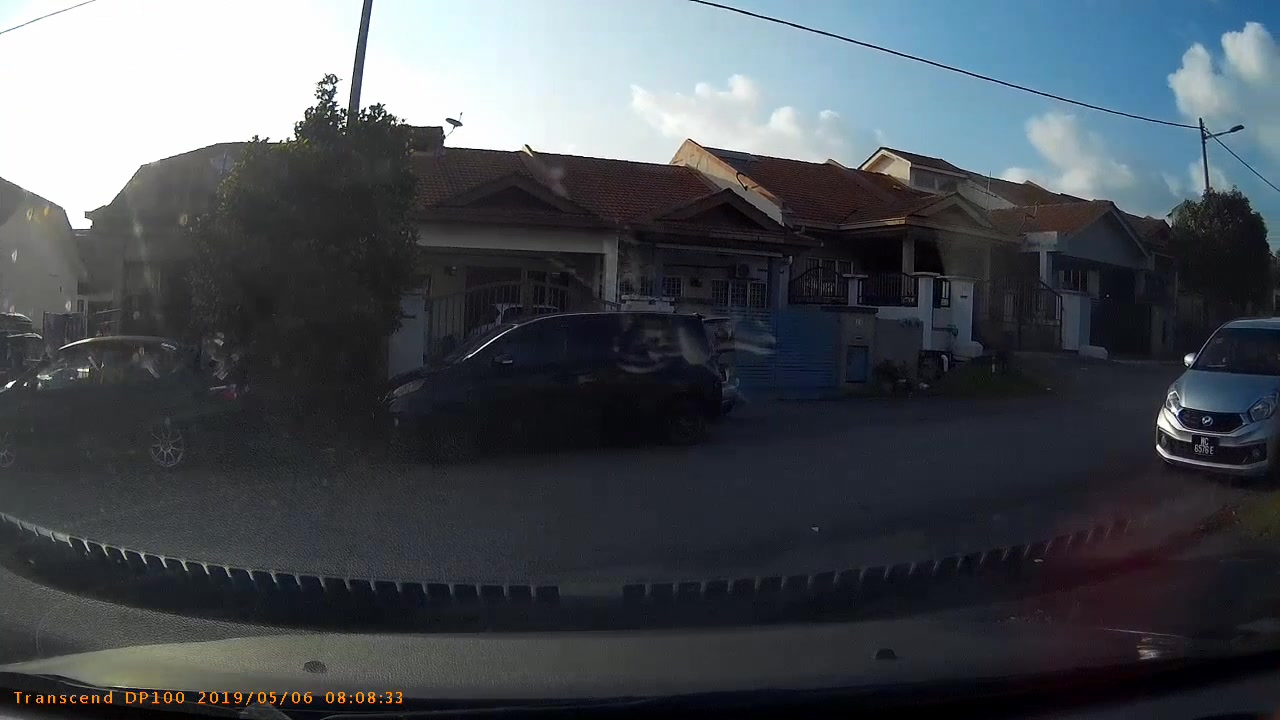license-plate: (1194, 432, 1219, 457)
